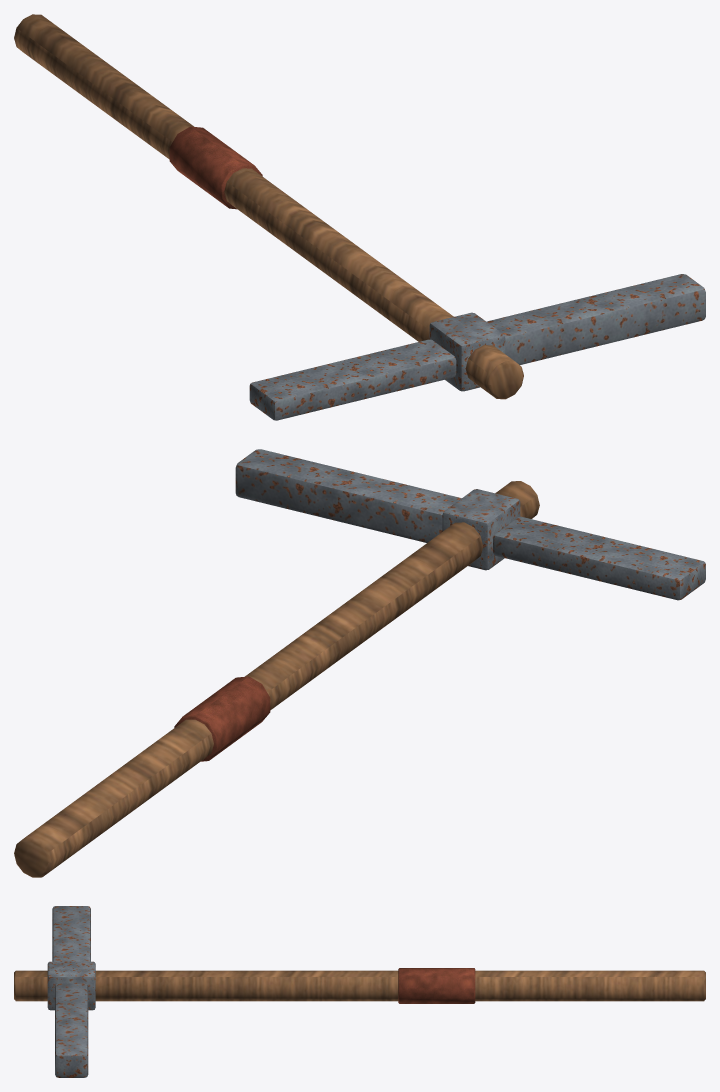
File: pickaxe_preview.glb
The picture shows the model from 3 angles, top to bottom: view 1: azimuth 30°, elevation 25°; view 2: azimuth 150°, elevation 25°; view 3: azimuth 270°, elevation 25°; orthographic projection. The views are drawn at different scales.
Parts seen in each view (by area): view 1: pickaxe; view 2: pickaxe; view 3: pickaxe.
Boxes of the visible parts, bbox=[...] form: pickaxe: bbox=[14, 14, 705, 420]; pickaxe: bbox=[14, 449, 705, 877]; pickaxe: bbox=[14, 906, 705, 1077].
Bounding box in the file's own units: 0.38 × 0.04 × 0.72.
3 materials, 3 textured.
